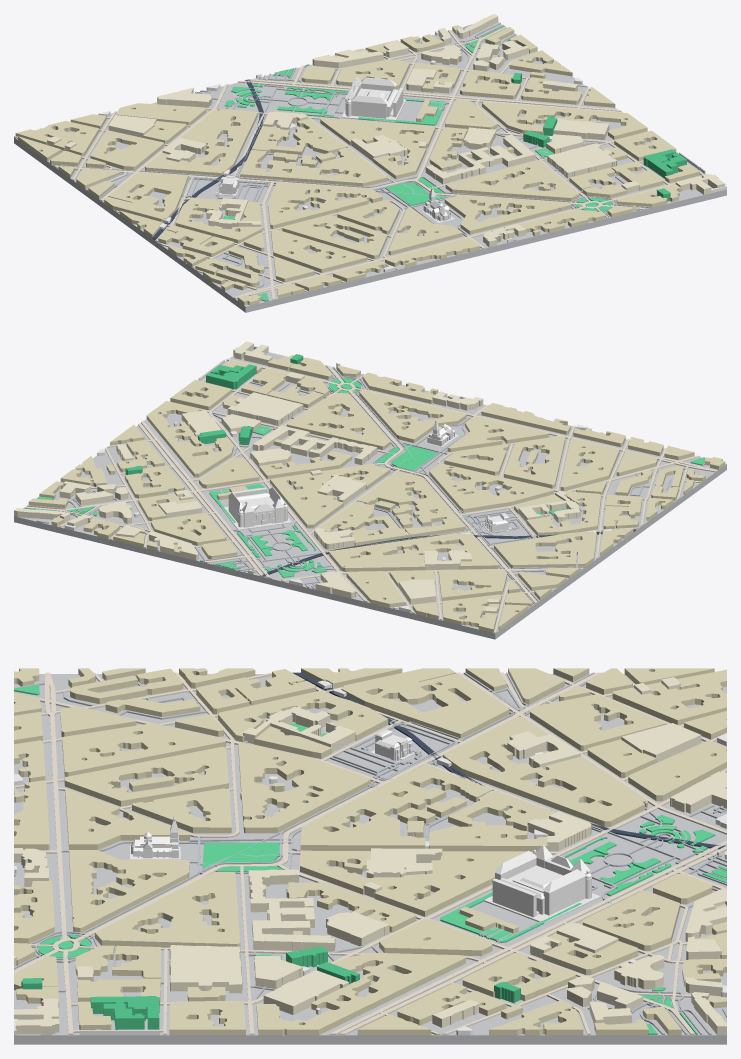
Rendered from lille_printable_building_blocks.glb.
3 renders of one model, top to bottom at view 1: azimuth 30°, elevation 25°; view 2: azimuth 150°, elevation 25°; view 3: azimuth 270°, elevation 25°, orthographic. The views are drawn at different scales.
Parts seen in each view (by area): view 1: small_building_block_groups, flat_lille_test_terrain, large_individual_buildings, visible_secondary_mask, visible_pedestrian_path_mask, visible_green_mask, visible_local_mask, landmark_micro_model_palais_beaux_arts_lille, enhanced_landmark_massing, visible_service_mask, visible_rail_mask, small_individual_preserved (+1 smaller); view 2: small_building_block_groups, flat_lille_test_terrain, large_individual_buildings, visible_secondary_mask, visible_pedestrian_path_mask, visible_local_mask, visible_green_mask, landmark_micro_model_palais_beaux_arts_lille, enhanced_landmark_massing, visible_service_mask, visible_rail_mask, small_individual_preserved (+1 smaller); view 3: small_building_block_groups, flat_lille_test_terrain, large_individual_buildings, visible_secondary_mask, visible_pedestrian_path_mask, visible_green_mask, visible_local_mask, landmark_micro_model_palais_beaux_arts_lille, enhanced_landmark_massing, visible_service_mask, small_individual_preserved, visible_rail_mask (+2 smaller).
Boxes of the visible parts, x1,y1,x2,y2 form: small_building_block_groups: (15,25,699,305); flat_lille_test_terrain: (14,22,726,312); large_individual_buildings: (47,14,725,247); visible_secondary_mask: (54,26,701,300); visible_pedestrian_path_mask: (53,24,651,301); visible_green_mask: (223,25,612,301); visible_local_mask: (14,30,704,291); landmark_micro_model_palais_beaux_arts_lille: (341,76,406,122); enhanced_landmark_massing: (511,73,686,201); visible_service_mask: (104,22,625,288); visible_rail_mask: (152,79,264,239); small_individual_preserved: (98,31,726,272); small_building_block_groups: (28,355,725,632); flat_lille_test_terrain: (14,349,726,639); large_individual_buildings: (14,341,580,613); visible_secondary_mask: (24,358,716,603); visible_pedestrian_path_mask: (27,367,704,604); visible_local_mask: (53,361,701,633); visible_green_mask: (23,378,705,577); landmark_micro_model_palais_beaux_arts_lille: (221,487,291,530); enhanced_landmark_massing: (125,354,303,474); visible_service_mask: (36,381,686,587); visible_rail_mask: (262,529,636,576); small_individual_preserved: (64,345,611,612); small_building_block_groups: (14,668,726,1035); flat_lille_test_terrain: (14,674,726,1044); large_individual_buildings: (14,677,726,1035); visible_secondary_mask: (14,672,726,1034); visible_pedestrian_path_mask: (14,672,726,1034); visible_green_mask: (14,684,726,1034); visible_local_mask: (14,672,726,1034); landmark_micro_model_palais_beaux_arts_lille: (479,845,600,923); enhanced_landmark_massing: (21,946,520,1029); visible_service_mask: (62,681,726,1034); small_individual_preserved: (14,680,726,1035); visible_rail_mask: (293,672,726,849).
Size of the model in its own units: 4 by 0.2402 by 3.34.
